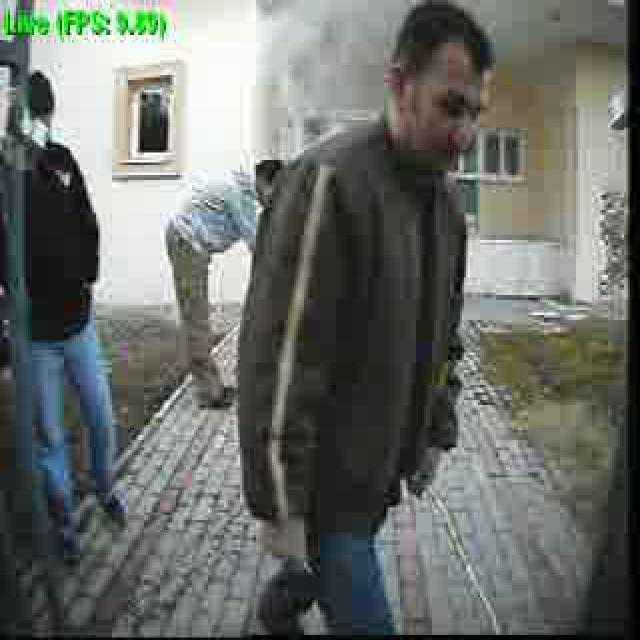Smoke: (262, 0, 372, 120)
